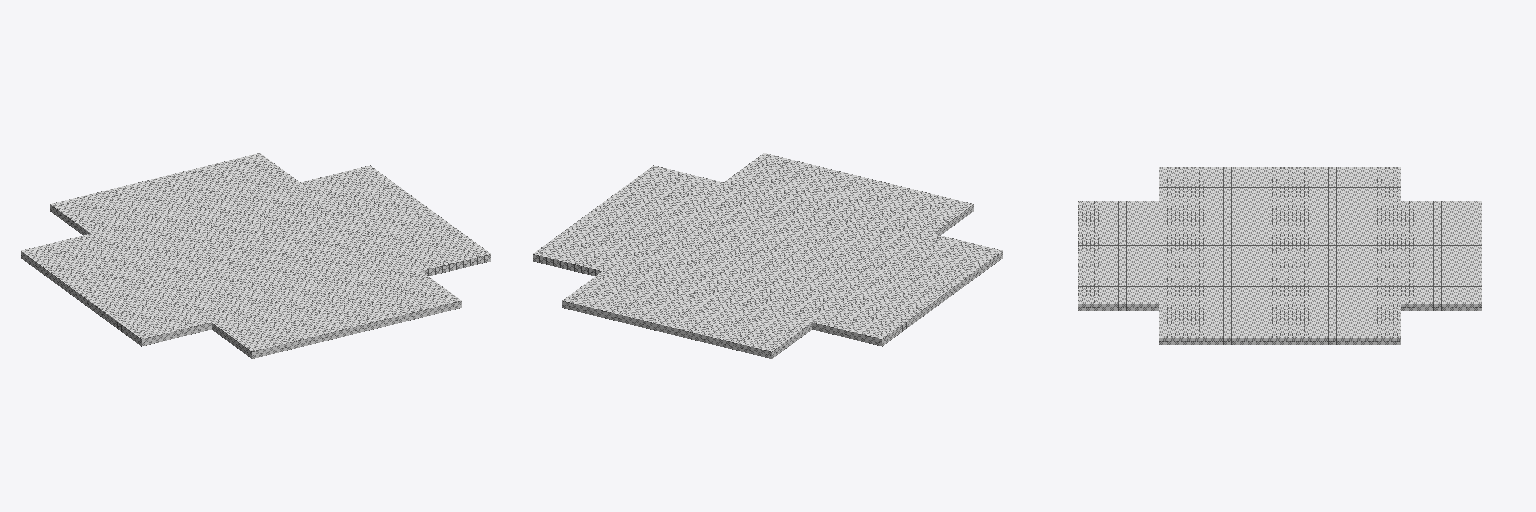
3 views of the same model, side by side, from view 1: azimuth 30°, elevation 25°; view 2: azimuth 150°, elevation 25°; view 3: azimuth 270°, elevation 25° (orthographic).
Parts seen in each view (by area): view 1: toybox_floor; view 2: toybox_floor; view 3: toybox_floor.
Boxes of the visible parts, <box> form: toybox_floor: <box>21,153,490,358</box>; toybox_floor: <box>533,153,1002,358</box>; toybox_floor: <box>1078,167,1481,344</box>.
Bounding box in the file's own units: 50 × 1 × 50.
Materials: 2 (1 with a texture image).